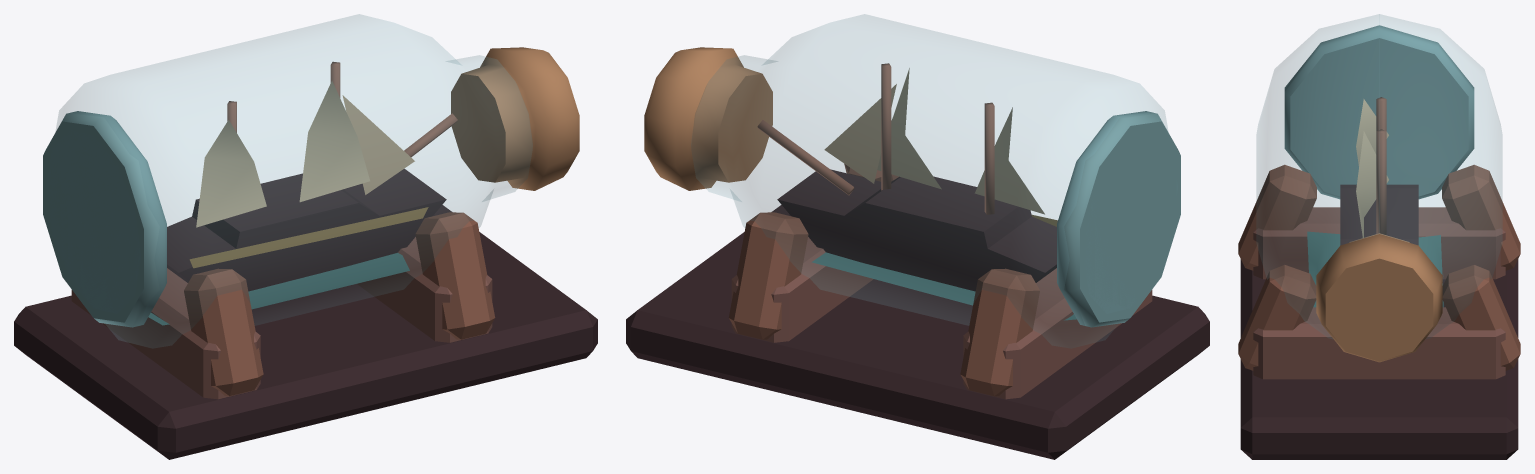
Rendered from ship_in_bottle.glb.
3 views of the same model, side by side, from view 1: azimuth 30°, elevation 25°; view 2: azimuth 150°, elevation 25°; view 3: azimuth 270°, elevation 25° (orthographic). The views are drawn at different scales.
Parts seen in each view (by area): view 1: ship_in_bottle; view 2: ship_in_bottle; view 3: ship_in_bottle.
Boxes of the visible parts, x1=… form: ship_in_bottle: x1=14, y1=14, x2=597, y2=459; ship_in_bottle: x1=626, y1=14, x2=1209, y2=459; ship_in_bottle: x1=1238, y1=14, x2=1520, y2=459.
Bounding box in the file's own units: 0.242 × 0.156 × 0.1442.
